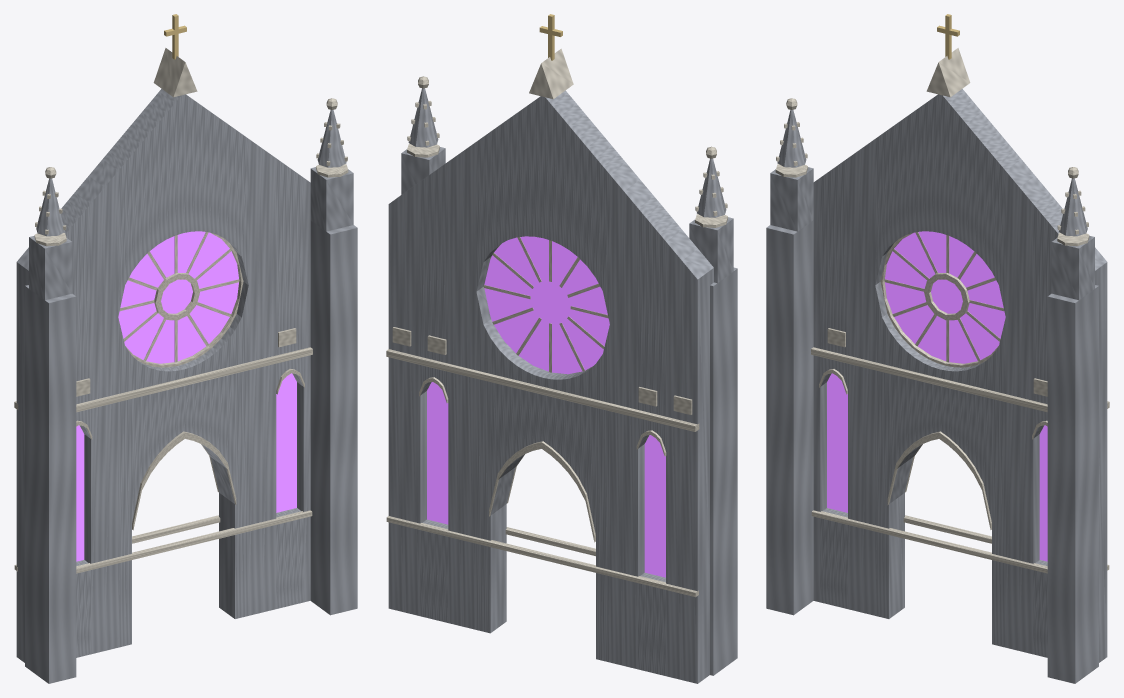
File: vampire-crypt-and-gothic-cathedral-rose-window-wall-448695a5__22941.glb
The picture shows the model from 3 angles, left to right: view 1: azimuth 30°, elevation 25°; view 2: azimuth 150°, elevation 25°; view 3: azimuth 330°, elevation 25°; orthographic projection. The views are drawn at different scales.
Parts seen in each view (by area): view 1: rose-window-wall; view 2: rose-window-wall; view 3: rose-window-wall.
Boxes of the visible parts, x1=… form: rose-window-wall: x1=14, y1=14, x2=357, y2=683; rose-window-wall: x1=386, y1=14, x2=737, y2=683; rose-window-wall: x1=766, y1=14, x2=1109, y2=683.
Bounding box in the file's own units: 9.04 × 17 × 1.92.
Materials: 4 (2 with a texture image).
